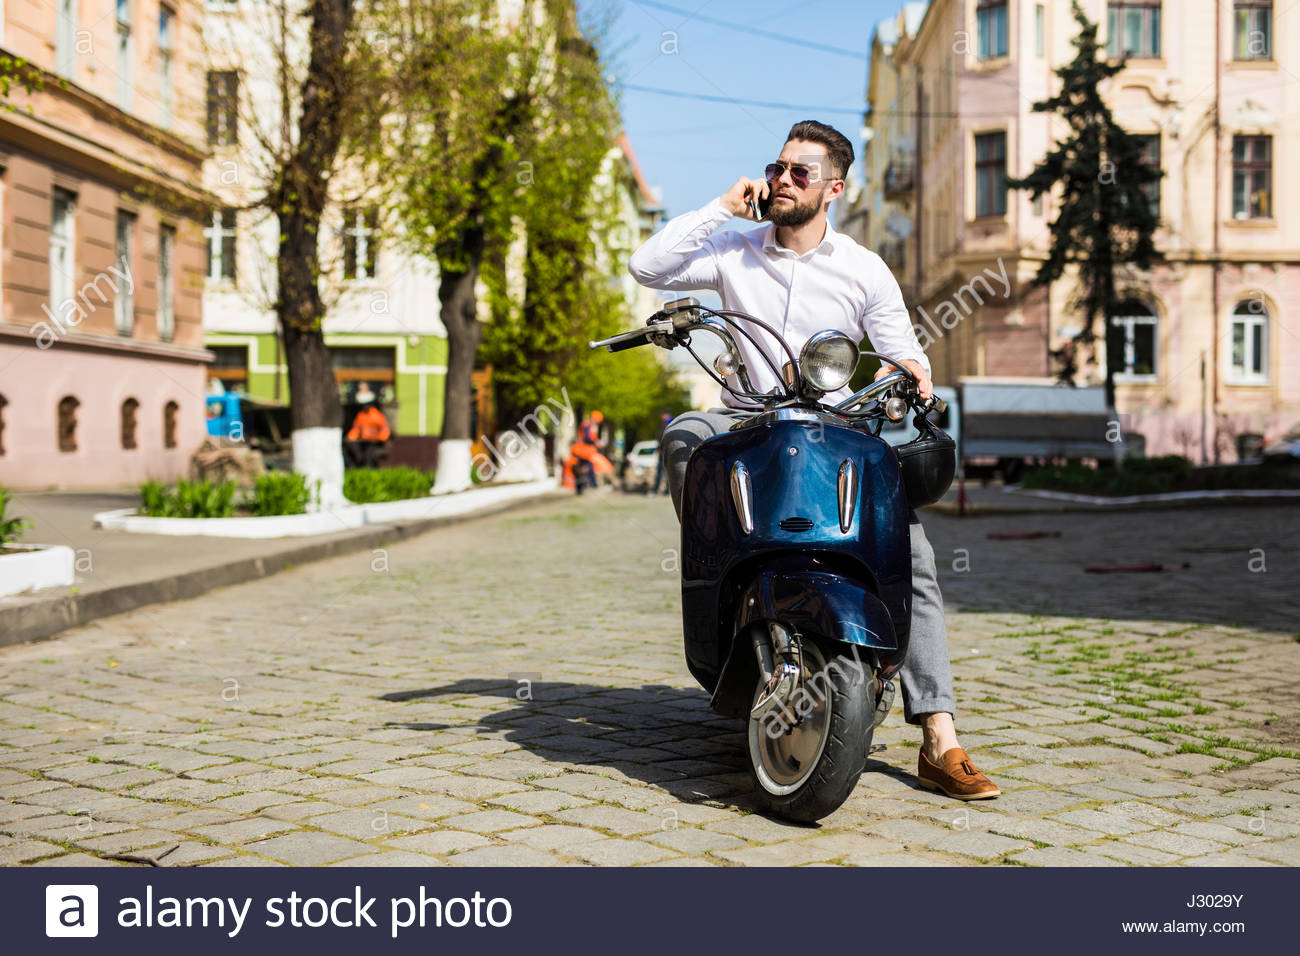dieu khien xe may: (682, 114, 919, 645)
su dung dien thoai: (723, 119, 855, 260)
